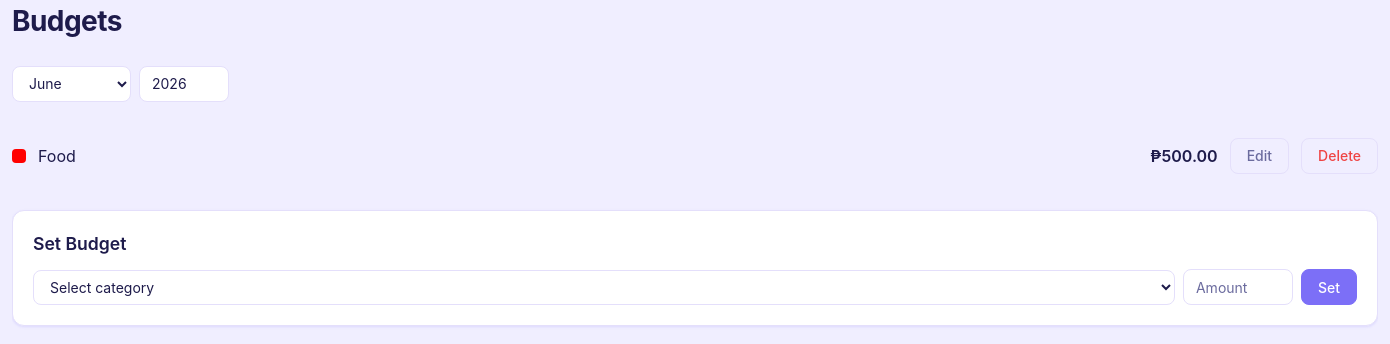
Scenario: BudgetsPage › Edit button reveals inline amount input with Save and Cancel
The width and height of the screenshot is (1390, 344).
Check: the text "₱500.00" is shown, box 1150,144 -> 1218,168
Click the button "Edit".
click(1259, 156)  # box 1230,138 -> 1289,174
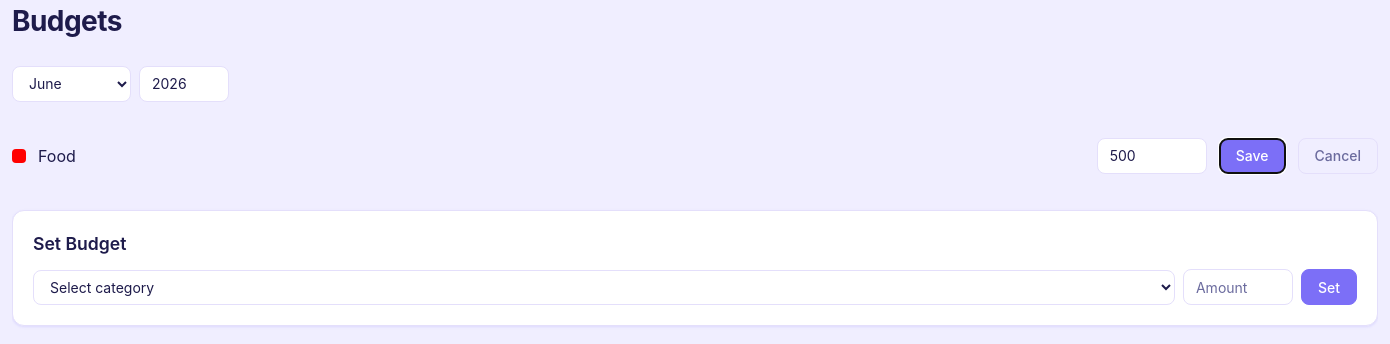
Check: the number field named "Edit amount" is shown, box 1097,138 -> 1207,174
Check: the button "Save" is shown, box 1219,138 -> 1286,174
Check: the button "Cancel" is shown, box 1298,138 -> 1378,174
